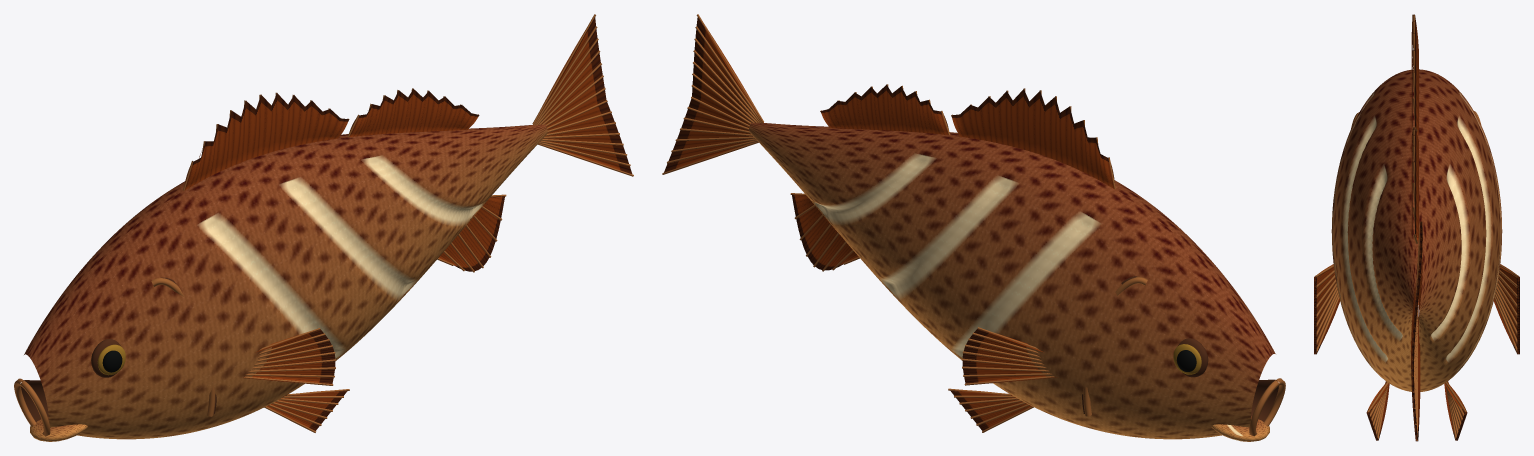
File: seared_ashfin.glb
The picture shows the model from 3 angles, left to right: view 1: azimuth 30°, elevation 25°; view 2: azimuth 150°, elevation 25°; view 3: azimuth 270°, elevation 25°; orthographic projection. The views are drawn at different scales.
Visible parts, largest first — view 1: Scaled blistered golden roast skin, Fin web roast amber, Fin rays and lip edges, Deep oral cavity; view 2: Scaled blistered golden roast skin, Fin web roast amber, Fin rays and lip edges, Deep oral cavity; view 3: Scaled blistered golden roast skin, Fin web roast amber, Fin rays and lip edges.
Part boxes in pixels (x1,y1,x2,y2): Scaled blistered golden roast skin: (24,124,547,441); Fin web roast amber: (184,17,632,430); Fin rays and lip edges: (14,14,633,436); Deep oral cavity: (21,277,216,427); Scaled blistered golden roast skin: (749,122,1275,441); Fin web roast amber: (664,17,1114,432); Fin rays and lip edges: (662,14,1285,436); Deep oral cavity: (1082,276,1278,421); Scaled blistered golden roast skin: (1331,69,1502,391); Fin web roast amber: (1314,14,1519,441); Fin rays and lip edges: (1315,14,1518,440).
Size of the model in its own units: 0.7792 by 0.4095 by 0.1924.
Materials: 6 (2 with a texture image).
